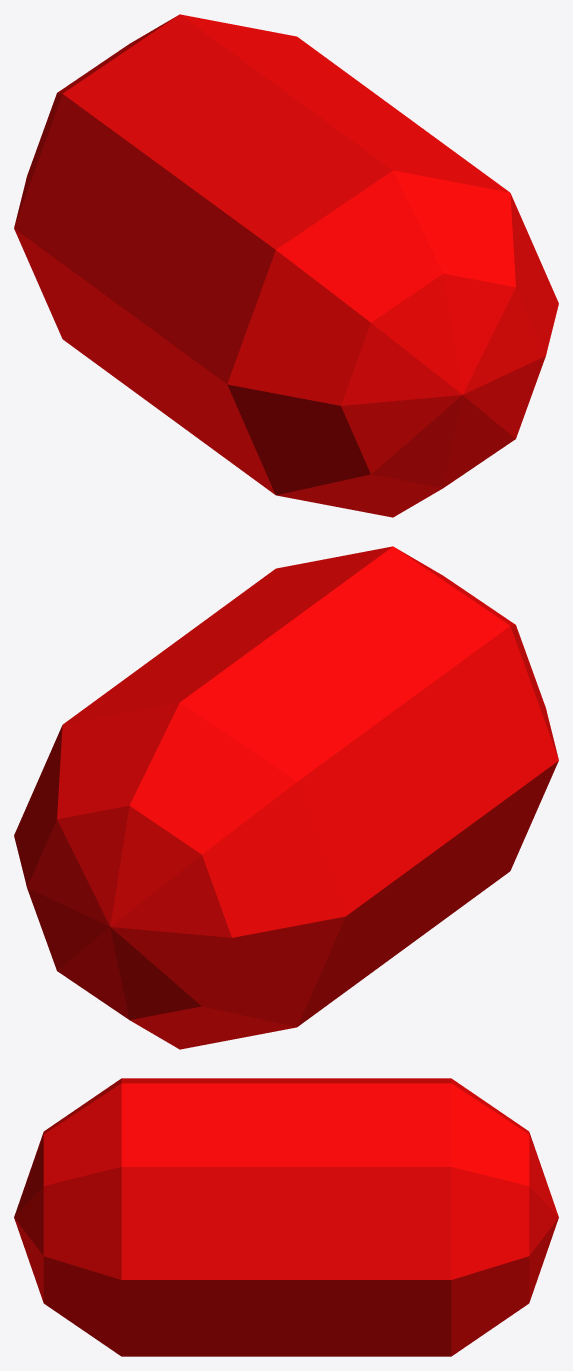
The model's file is ecoli.glb.
The picture shows the model from 3 angles, top to bottom: view 1: azimuth 30°, elevation 25°; view 2: azimuth 150°, elevation 25°; view 3: azimuth 270°, elevation 25°; orthographic projection. The views are drawn at different scales.
Parts seen in each view (by area): view 1: Sphere; view 2: Sphere; view 3: Sphere.
Part boxes in pixels (x1,y1,x2,y2): Sphere: (14, 14, 558, 517); Sphere: (14, 546, 558, 1049); Sphere: (14, 1078, 558, 1356).
Bounding box in the file's own units: 1.9 × 1.9 × 3.5.
